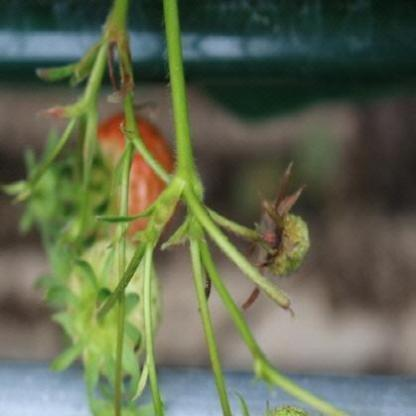Strawberry_Gray_Mold: (242, 164, 311, 310)
